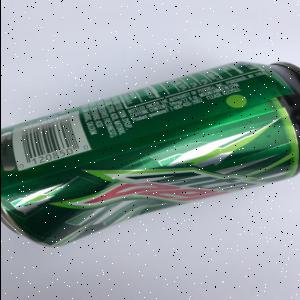Can: (2, 61, 300, 249)
